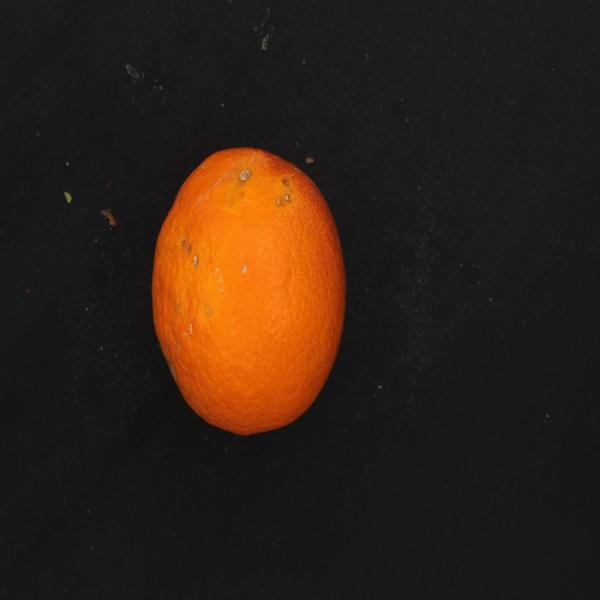Otros defectos: (127, 136, 351, 441)
